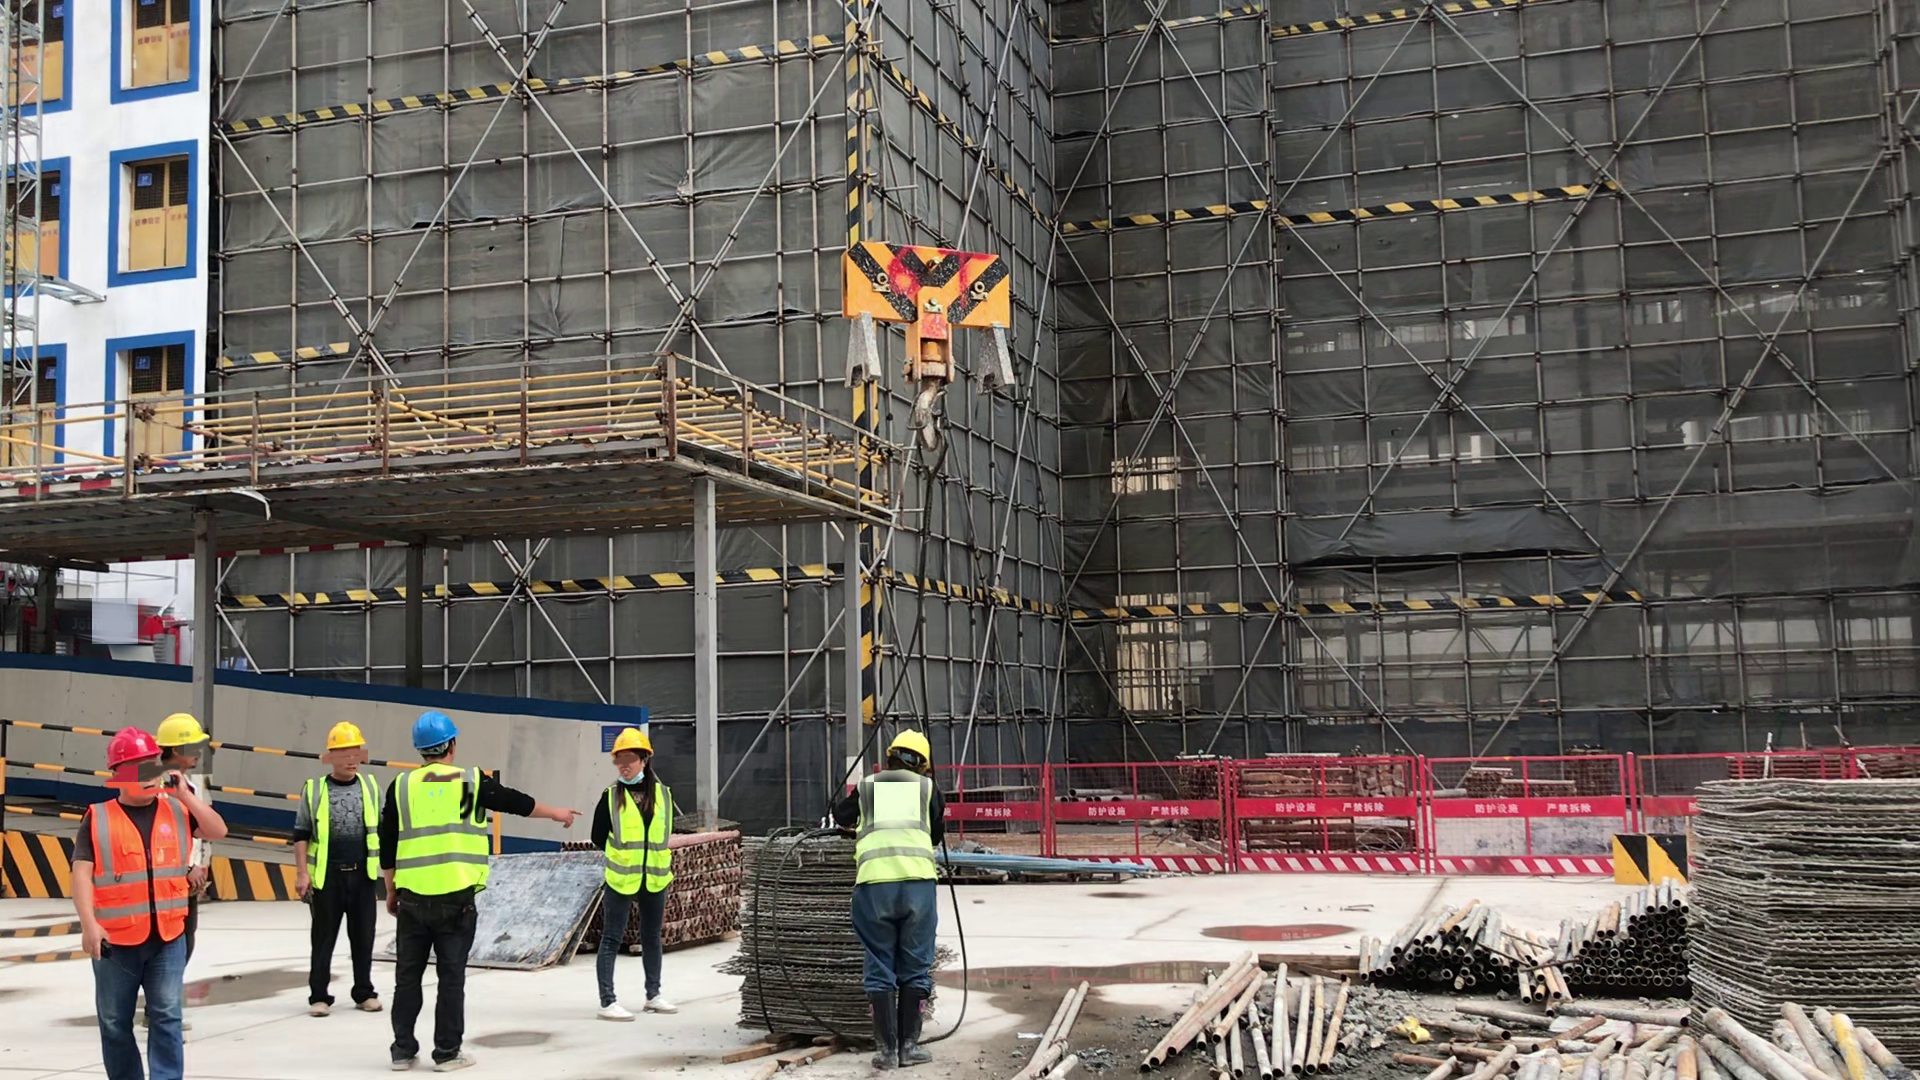fence: (954, 753, 1715, 872)
helmet: (107, 729, 161, 764), (887, 729, 930, 771), (413, 709, 457, 748), (156, 713, 209, 745), (612, 727, 652, 757), (326, 720, 365, 749)
hook: (838, 239, 1015, 453)
person: (76, 728, 195, 1080), (381, 710, 489, 1073), (846, 730, 943, 1065), (297, 722, 382, 1012), (597, 726, 677, 1019), (152, 714, 215, 1018)
scaffold: (677, 830, 740, 950)
vest: (89, 795, 190, 942), (400, 764, 488, 895), (854, 766, 939, 888), (305, 775, 375, 883), (604, 787, 670, 892)
